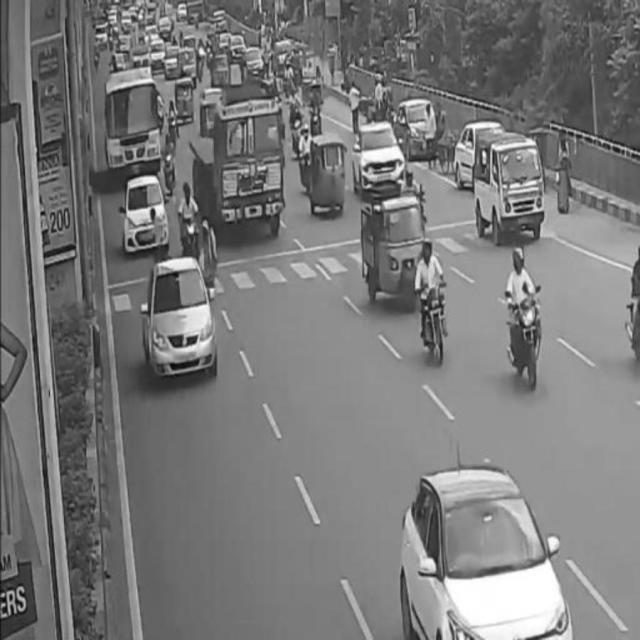person: (194, 212, 224, 296), (149, 202, 171, 250), (557, 140, 572, 210)
vehicle: (404, 464, 580, 640), (147, 255, 218, 383), (218, 107, 285, 228), (475, 133, 546, 244), (360, 198, 426, 304), (415, 239, 451, 365), (510, 250, 540, 394), (355, 123, 405, 189), (126, 175, 168, 248), (311, 141, 348, 217), (181, 180, 201, 256)
